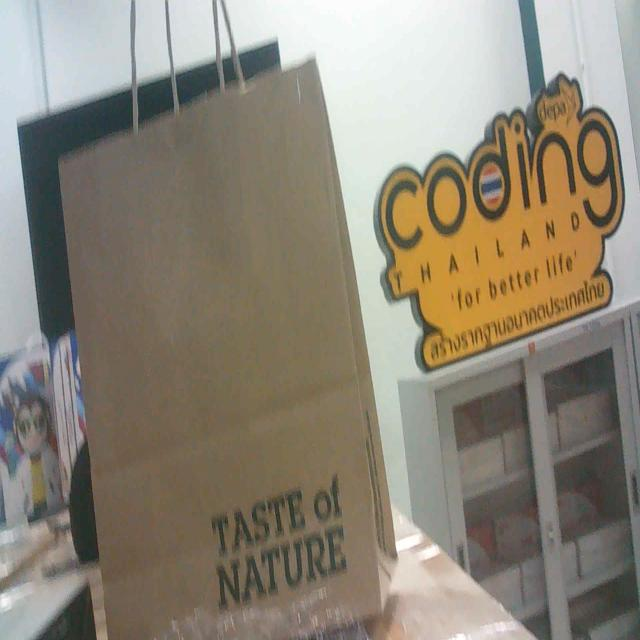bag: (57, 58, 401, 640)
